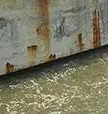Corrosion: (36, 1, 50, 50), (92, 8, 102, 48), (27, 44, 38, 60), (5, 62, 15, 74), (77, 32, 83, 51), (48, 53, 57, 60)
